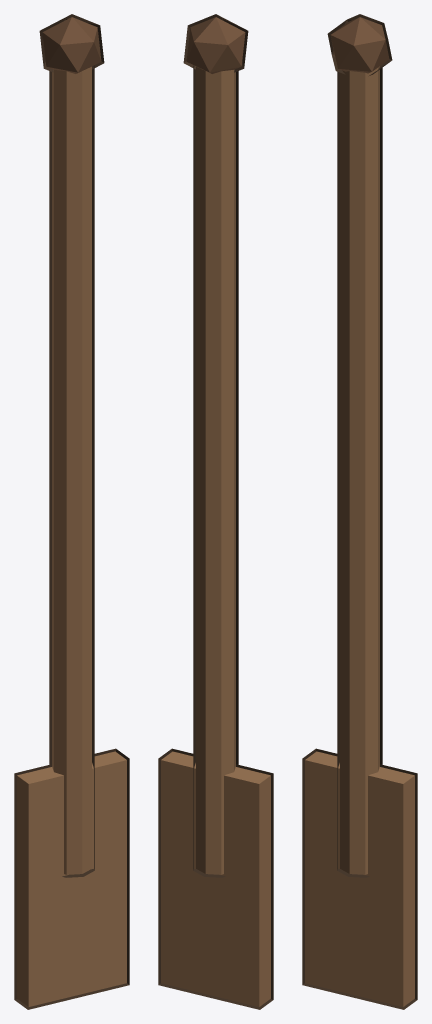
Rendered from stir_paddle.glb.
3 renders of one model, left to right at view 1: azimuth 30°, elevation 25°; view 2: azimuth 150°, elevation 25°; view 3: azimuth 330°, elevation 25°, orthographic.
Parts seen in each view (by area): view 1: Shaft, Blade, Knob; view 2: Shaft, Blade, Knob; view 3: Shaft, Blade, Knob.
Boxes of the visible parts, x1=… form: Shaft: x1=49, y1=65, x2=94, y2=877; Blade: x1=14, y1=748, x2=129, y2=1009; Knob: x1=39, y1=14, x2=104, y2=73; Shaft: x1=193, y1=65, x2=238, y2=877; Blade: x1=158, y1=748, x2=273, y2=1009; Knob: x1=183, y1=14, x2=248, y2=73; Shaft: x1=337, y1=66, x2=382, y2=877; Blade: x1=302, y1=748, x2=417, y2=1009; Knob: x1=327, y1=14, x2=392, y2=75.
Size of the model in its own units: 0.124 by 1.14 by 0.0655.
